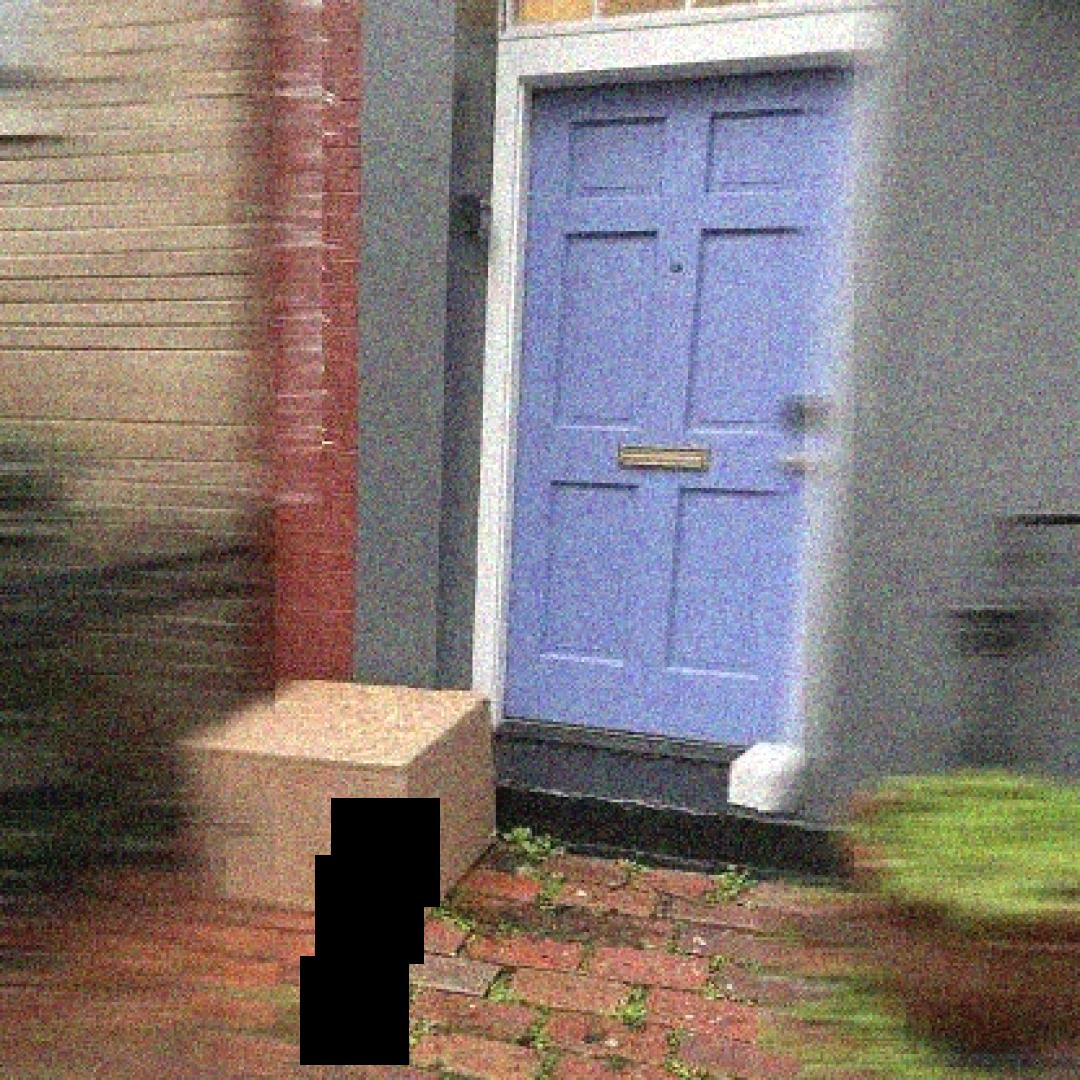package: (177, 672, 520, 940), (722, 734, 818, 818)
